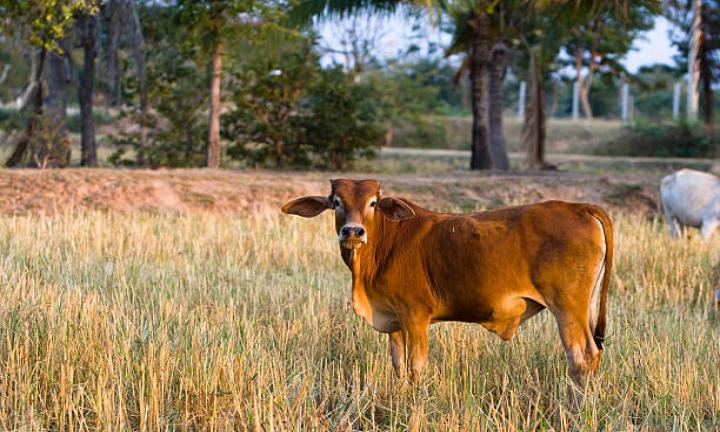Brahman: (282, 179, 612, 381)
